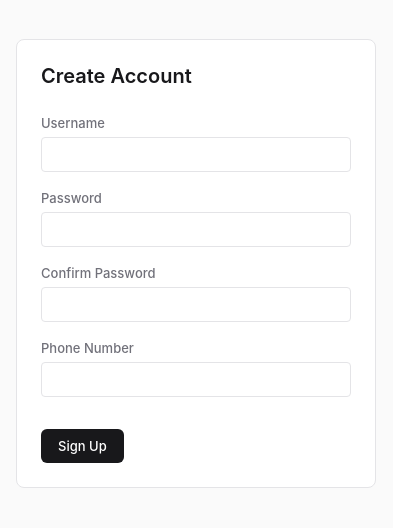
Scenario: SignupComponent › shows inline validation and does not submit for a short password
The image size is (393, 528).
Type "newuser" into the field below "Username" at x=196, y=154, box x1=41 y1=136 x2=351 y2=172
Type "SecurePass123!" into the 1st password field at x=196, y=229, box x1=41 y1=212 x2=351 y2=246
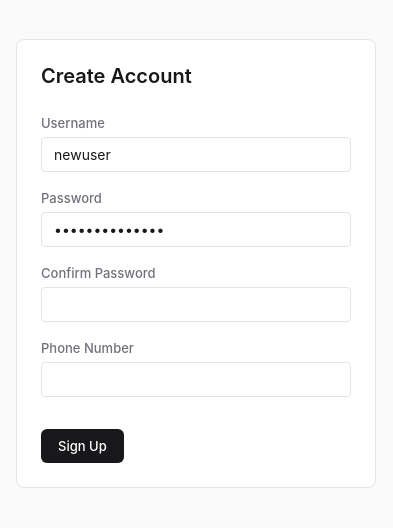
Type "SecurePass123!" into the password field below "Confirm Password" at x=196, y=304, box x1=41 y1=286 x2=351 y2=322
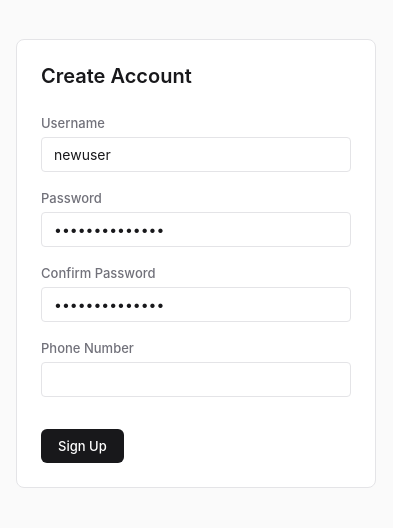
Type "+15551234567" into the field below "Phone Number" at x=196, y=379, box x1=41 y1=362 x2=351 y2=396
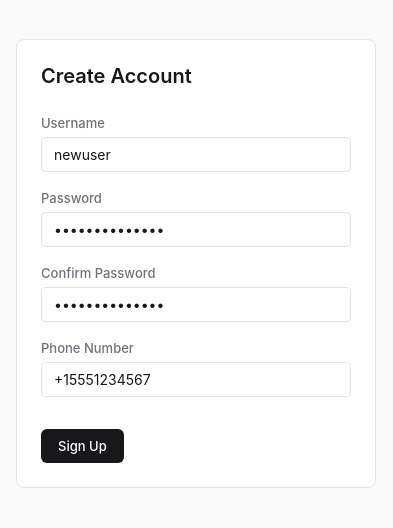
Type "short" into the 1st password field at x=196, y=229, box x1=41 y1=212 x2=351 y2=246
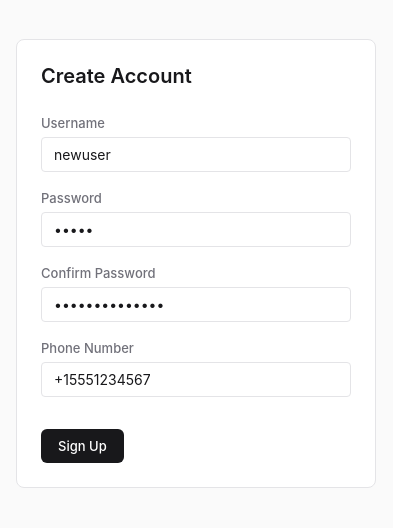
Type "short" into the password field below "Confirm Password" at x=196, y=304, box x1=41 y1=286 x2=351 y2=322
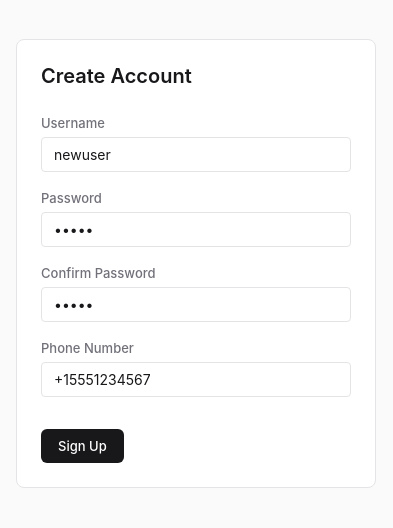
Submit the form, box x1=41 y1=112 x2=351 y2=462
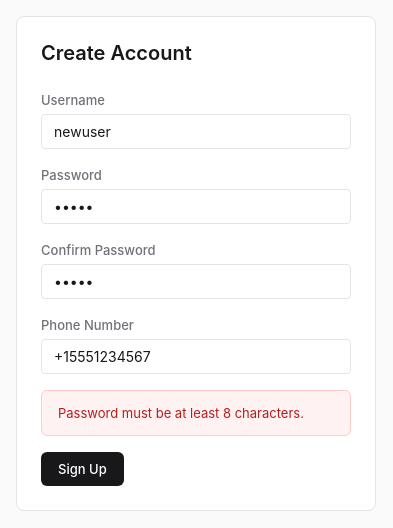
Now the text "8 characters" is shown, box x1=58 y1=404 x2=304 y2=420
